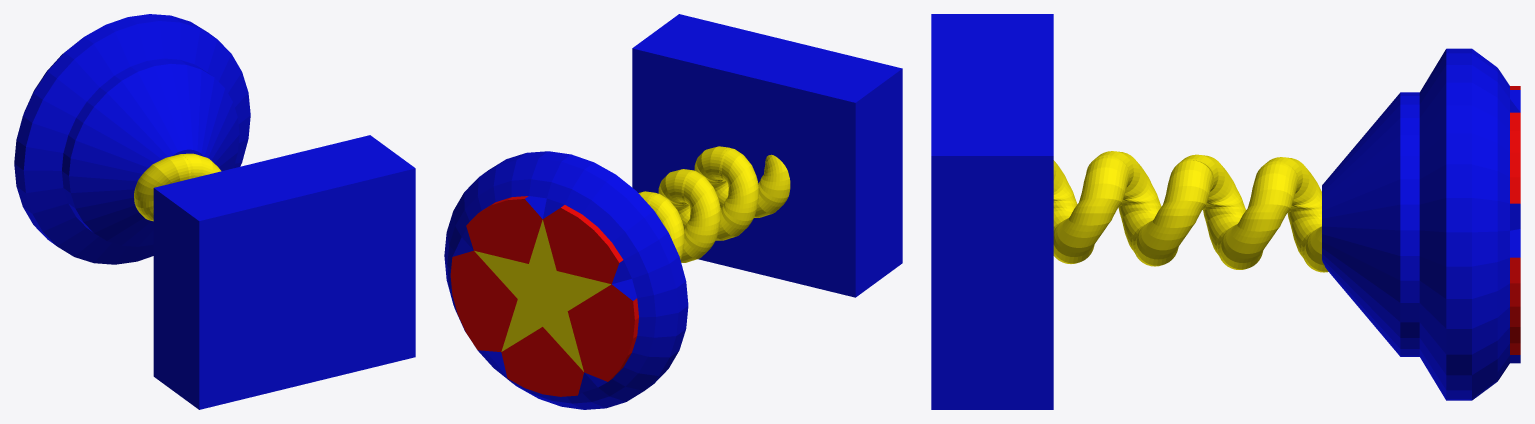
The model's file is ResorteExtendido.fbx.
3 renders of one model, left to right at view 1: azimuth 30°, elevation 25°; view 2: azimuth 150°, elevation 25°; view 3: azimuth 270°, elevation 25°, orthographic. The views are drawn at different scales.
Visible parts, largest first — view 1: Circle.003; view 2: Circle.003; view 3: Circle.003.
Boxes of the visible parts, x1,y1,x2,y2 form: Circle.003: (14,14,415,409); Circle.003: (444,14,902,409); Circle.003: (931,14,1520,409).
Size of the model in its own units: 1746 by 1631 by 2728.
